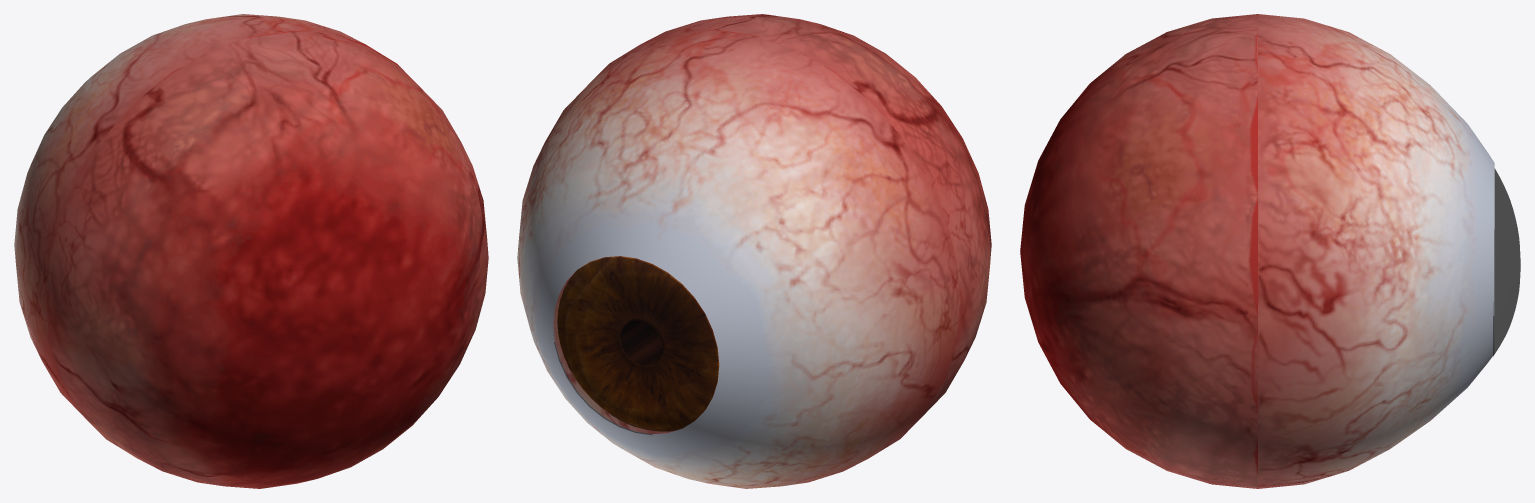
The model's file is health-eye.glb.
The picture shows the model from 3 angles, left to right: view 1: azimuth 30°, elevation 25°; view 2: azimuth 150°, elevation 25°; view 3: azimuth 270°, elevation 25°; orthographic projection.
Parts seen in each view (by area): view 1: Sclera; view 2: Sclera, Cornea, Iris; view 3: Sclera, Cornea.
Part boxes in pixels (<box>): Sclera: <box>14,14,488,488</box>; Sclera: <box>517,14,991,488</box>; Cornea: <box>553,257,718,435</box>; Iris: <box>557,256,719,431</box>; Sclera: <box>1020,14,1494,488</box>; Cornea: <box>1493,168,1520,356</box>.
Bounding box in the file's own units: 2 × 2 × 2.11.
Materials: 3 (2 with a texture image).
